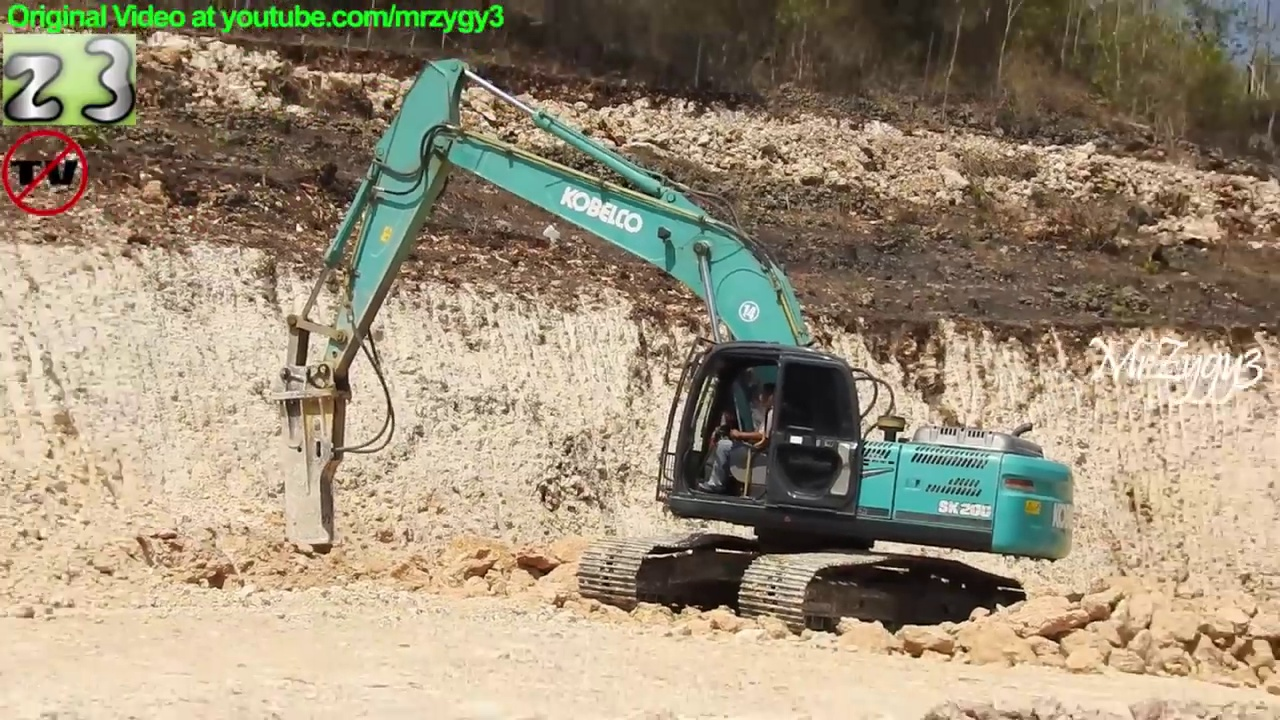excavator breaker: (262, 52, 1081, 648)
